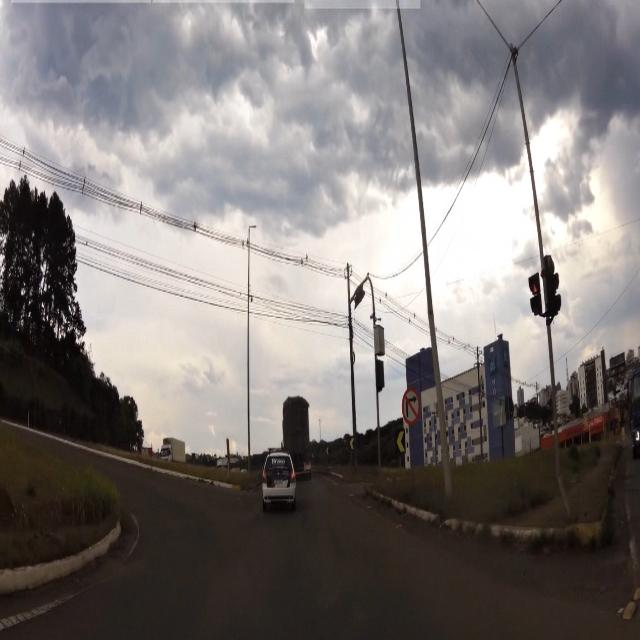Del: (395, 428, 405, 456)
R-4b: (401, 388, 420, 426)
